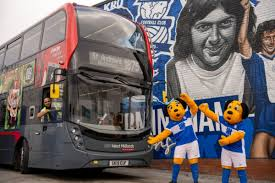bus: (1, 2, 156, 174)
